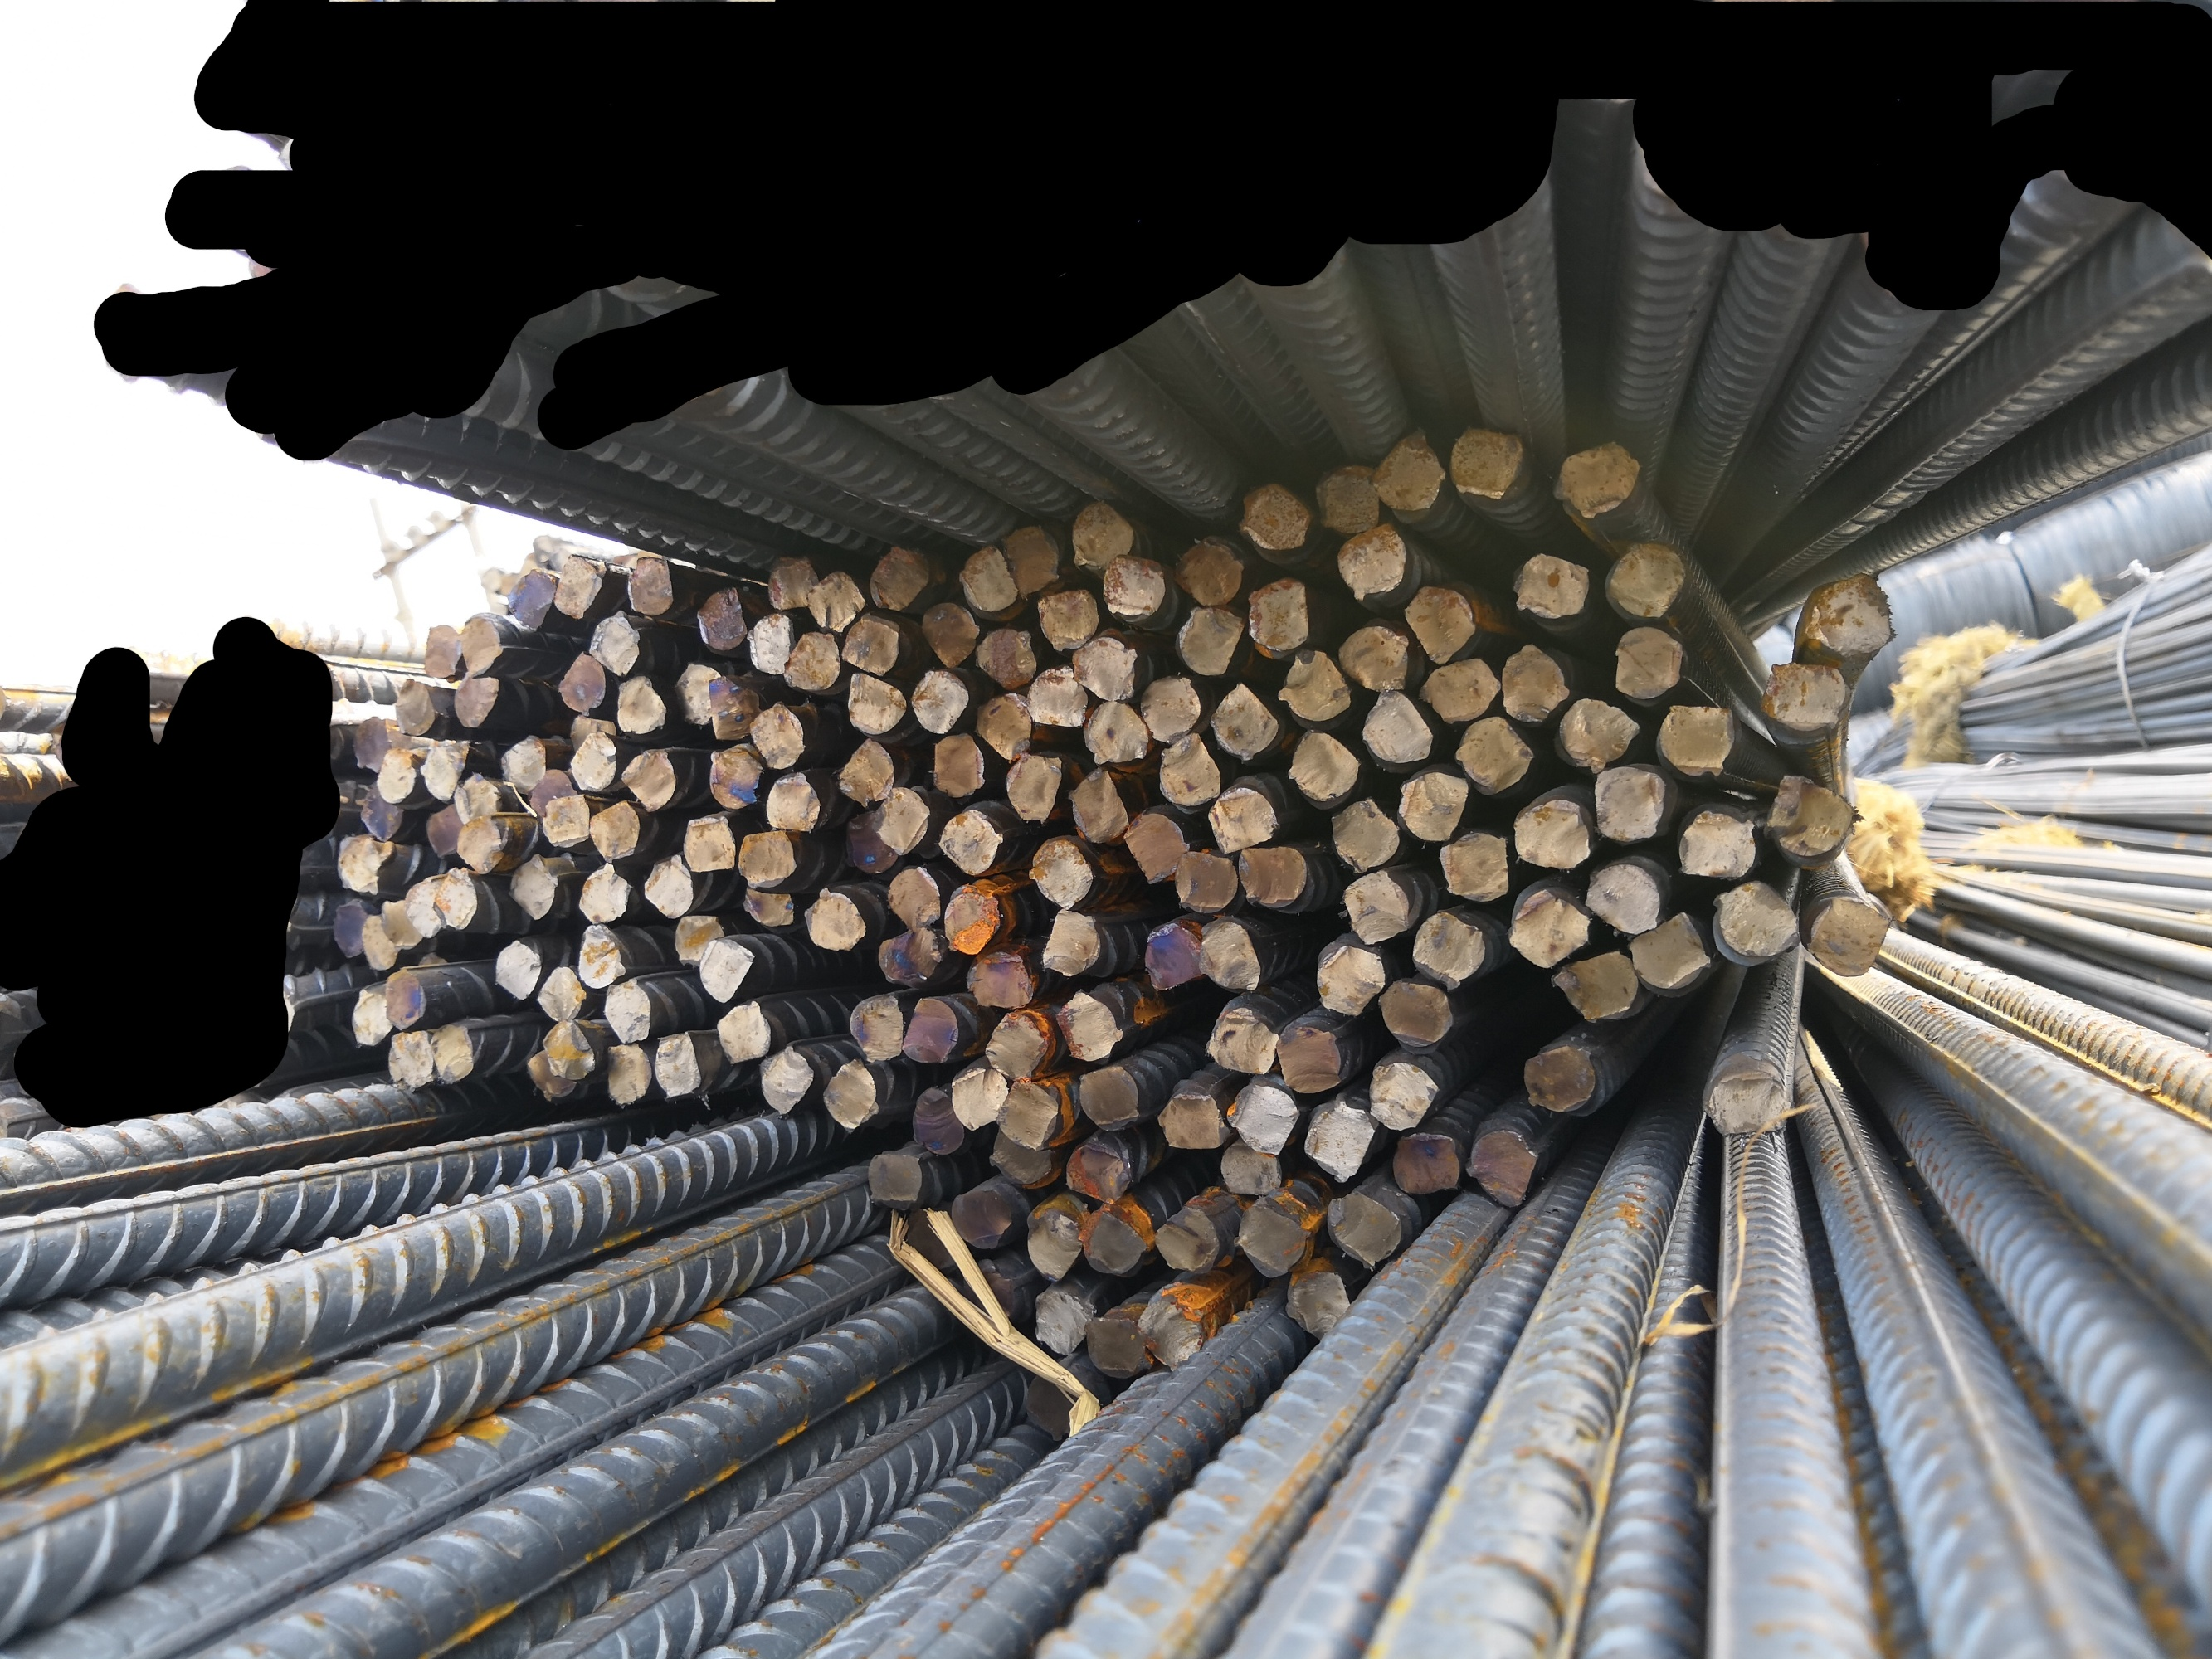rebar: (1802, 570, 1896, 659), (1766, 770, 1862, 857), (1808, 884, 1891, 981), (1710, 875, 1801, 962), (1619, 910, 1713, 990), (1755, 657, 1849, 735), (1506, 887, 1595, 969), (1553, 437, 1642, 519), (1447, 714, 1536, 796), (1227, 1202, 1316, 1283), (1602, 538, 1691, 619), (1370, 429, 1449, 519), (1546, 948, 1642, 1021), (1278, 723, 1365, 803), (1555, 694, 1642, 774), (1332, 518, 1414, 601), (1504, 545, 1593, 622), (1400, 584, 1480, 667), (1675, 803, 1761, 882), (1375, 974, 1459, 1053), (1203, 678, 1279, 763), (1496, 640, 1572, 725), (1304, 1094, 1375, 1185), (1656, 697, 1734, 779), (1445, 420, 1523, 502), (1353, 690, 1435, 769), (1410, 910, 1487, 993), (1611, 619, 1686, 704), (1510, 798, 1597, 871), (1578, 864, 1666, 936), (1466, 1122, 1537, 1209), (1325, 1190, 1403, 1269), (1307, 941, 1386, 1019), (1590, 763, 1668, 842), (1328, 791, 1403, 873), (1332, 619, 1414, 694), (1239, 570, 1313, 653), (1701, 1070, 1788, 1140), (1274, 647, 1354, 721), (1414, 657, 1501, 725), (1365, 1058, 1442, 1134), (1278, 1263, 1356, 1338), (1170, 605, 1248, 680), (1225, 1080, 1300, 1157), (1149, 732, 1224, 809), (1340, 868, 1414, 946), (1067, 762, 1133, 847), (1077, 694, 1152, 769), (1079, 1307, 1157, 1378), (1119, 809, 1191, 887), (1194, 917, 1262, 999), (1203, 782, 1279, 854), (1435, 831, 1513, 901), (1128, 673, 1206, 742), (1236, 483, 1314, 552), (1028, 829, 1096, 910), (1133, 1295, 1206, 1368), (1206, 1006, 1281, 1077), (1311, 464, 1386, 535), (1398, 769, 1469, 843), (1065, 634, 1142, 704), (1055, 986, 1123, 1065), (1021, 1359, 1088, 1439), (1271, 1023, 1344, 1094), (1062, 500, 1137, 570), (1170, 538, 1245, 608), (1388, 1129, 1464, 1197), (1522, 1044, 1598, 1112), (1149, 1202, 1220, 1274), (934, 807, 1006, 878), (821, 1053, 882, 1136), (1081, 1206, 1150, 1279), (981, 1006, 1049, 1080), (1168, 845, 1243, 913), (898, 990, 962, 1068), (1023, 1204, 1084, 1286), (1028, 1286, 1098, 1358), (866, 781, 934, 854), (865, 538, 933, 612), (1095, 552, 1168, 620), (1156, 1086, 1231, 1152), (831, 732, 898, 807), (1234, 843, 1313, 906), (800, 882, 868, 953), (1137, 922, 1204, 993), (1039, 904, 1103, 979), (995, 1073, 1056, 1152), (1004, 748, 1065, 826), (917, 599, 983, 671), (1060, 1141, 1133, 1206), (978, 619, 1041, 694), (748, 692, 807, 770), (997, 521, 1056, 599), (842, 667, 910, 735), (966, 950, 1037, 1014), (899, 1202, 960, 1277), (1075, 1065, 1142, 1133), (1023, 664, 1089, 732), (695, 932, 757, 1006), (974, 687, 1034, 762), (926, 732, 990, 800), (948, 1061, 1011, 1131), (940, 887, 1002, 957), (957, 542, 1020, 612), (619, 741, 678, 814), (849, 988, 905, 1065), (910, 1080, 966, 1157), (709, 999, 774, 1065), (950, 1187, 1014, 1253), (990, 1124, 1055, 1190), (568, 920, 629, 990), (872, 927, 943, 986), (910, 664, 969, 735), (415, 739, 479, 803), (837, 615, 903, 678), (1034, 589, 1100, 652), (762, 765, 823, 833), (596, 978, 655, 1047), (809, 566, 868, 636), (704, 742, 763, 812), (955, 1258, 1014, 1328), (758, 1042, 812, 1117), (736, 828, 798, 892), (866, 1148, 929, 1213), (784, 622, 842, 692), (586, 793, 641, 864), (706, 671, 762, 742), (640, 847, 694, 920), (575, 857, 633, 925), (553, 648, 608, 718), (652, 1032, 704, 1105), (880, 866, 941, 929), (539, 1016, 598, 1080), (844, 809, 899, 877), (553, 551, 605, 622), (673, 657, 725, 728), (695, 582, 748, 653), (1220, 1140, 1281, 1201), (584, 613, 641, 678), (610, 674, 669, 735), (680, 812, 739, 873), (495, 732, 551, 796), (331, 831, 385, 897), (565, 725, 617, 793), (601, 1039, 654, 1107), (744, 608, 797, 676), (492, 934, 542, 1004), (622, 552, 676, 617), (509, 852, 558, 922), (765, 552, 821, 613), (535, 960, 587, 1025), (356, 779, 406, 845), (506, 566, 556, 633), (380, 965, 429, 1033), (455, 612, 504, 680), (431, 863, 478, 932), (455, 812, 506, 877), (427, 1023, 476, 1089), (521, 1047, 580, 1101), (519, 769, 579, 823), (390, 674, 439, 739), (535, 793, 591, 849), (383, 1030, 434, 1091), (347, 985, 394, 1047), (671, 915, 727, 967), (418, 619, 464, 681), (357, 906, 401, 971), (377, 894, 425, 951), (451, 673, 500, 730), (375, 744, 418, 807), (450, 772, 502, 824), (401, 873, 441, 941), (328, 899, 370, 962), (350, 714, 394, 774), (743, 882, 797, 929), (422, 803, 462, 857)
